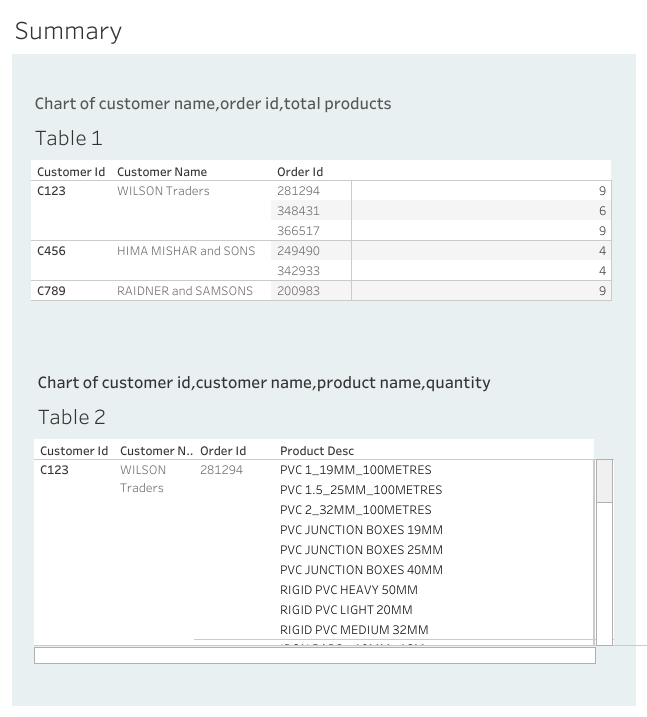

Layout of this report page (visuals, bound fields, positions):
{"tool":"tableau","page":{"name":"Summary Table","canvas":[650,860],"ordinal":1},"visuals":[{"type":"worksheet","box":[0,0,650,860]},{"type":"worksheet","param":"vert","box":[8,10.9,634,838.3]},{"type":"worksheet","box":[8,10.9,634,57.1]},{"type":"worksheet","box":[8,67.9,634,781.2]},{"type":"worksheet","box":[8,67.9,634,781.2]},{"type":"worksheet","box":[32,101.9,578,40.8]},{"type":"worksheet","title":"Table 1","mark":"Automatic","rows":["CUSTOMER_ID","CUSTOMER_NAME","ORDER_ID"],"box":[31,139.9,586,286.7]},{"type":"worksheet","box":[35,433.4,567,46.2]},{"type":"worksheet","title":"Table 2","mark":"Automatic","rows":["CUSTOMER_ID","CUSTOMER_NAME","ORDER_ID","PRODUCT_DESC"],"box":[34,474.2,581,320.6]}]}

Visuals, with their boxes on the page's 650x860 design canvas (x1, y1, x2, y2). These are canvas units, not pixel positions in the 647x717 screenshot, which may show the page scaled, cropped or inside an application window:
worksheet: bbox(0, 0, 650, 860)
worksheet: bbox(8, 11, 642, 849)
worksheet: bbox(8, 11, 642, 68)
worksheet: bbox(8, 68, 642, 849)
worksheet: bbox(8, 68, 642, 849)
worksheet: bbox(32, 102, 610, 143)
"Table 1" worksheet: bbox(31, 140, 617, 427)
worksheet: bbox(35, 433, 602, 480)
"Table 2" worksheet: bbox(34, 474, 615, 795)
